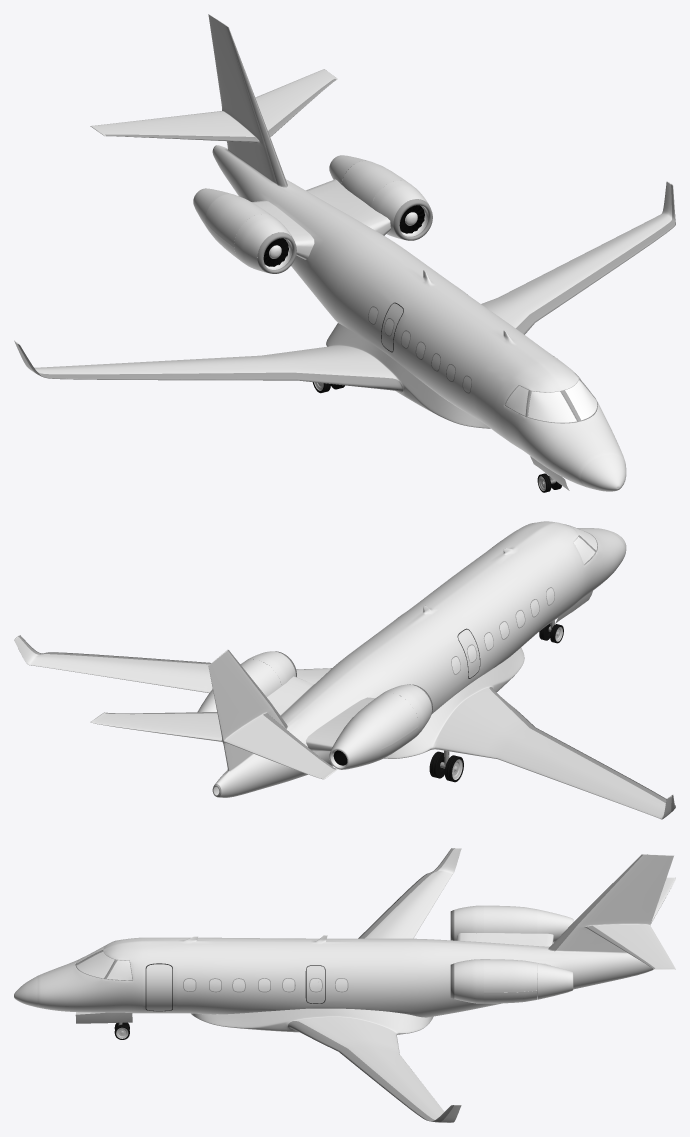
The model's file is uploads_files_4140769_plane-transformed.glb.
3 views of the same model, one above another, from view 1: azimuth 30°, elevation 25°; view 2: azimuth 150°, elevation 25°; view 3: azimuth 270°, elevation 25° (orthographic). The views are drawn at different scales.
Visible parts, largest first — view 1: Air Plane; view 2: Air Plane; view 3: Air Plane.
Boxes of the visible parts, box(x1,y1,x2,y2) form: Air Plane: box(14, 14, 675, 492); Air Plane: box(14, 521, 675, 819); Air Plane: box(14, 848, 675, 1122).
Size of the model in its own units: 19.56 by 6.61 by 21.26.
Materials: 2 (2 with a texture image).
